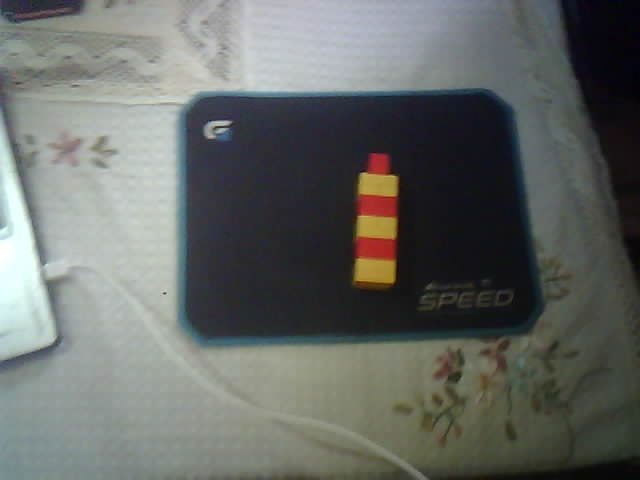lego: (352, 152, 398, 291)
